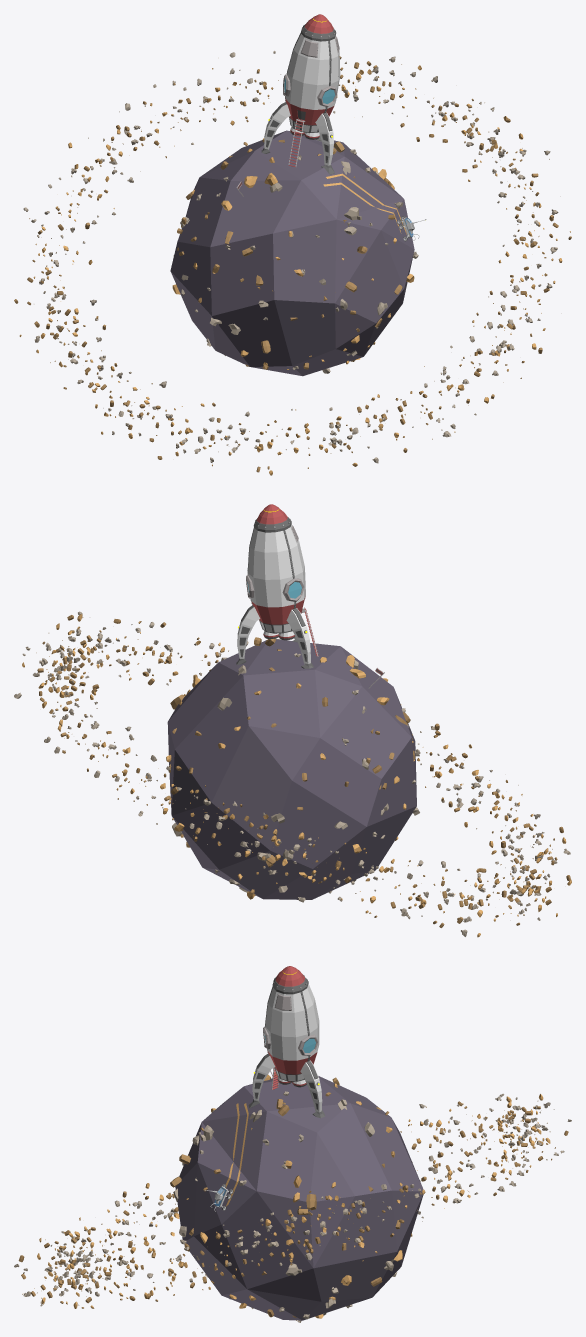
The picture shows the model from 3 angles, top to bottom: view 1: azimuth 30°, elevation 25°; view 2: azimuth 150°, elevation 25°; view 3: azimuth 270°, elevation 25°; orthographic projection. The views are drawn at different scales.
Visible parts, largest first — view 1: planet.001, planet.002; view 2: planet.001, planet.002; view 3: planet.001, planet.002.
Boxes of the visible parts, x1,y1,x2,y2 form: planet.001: (15, 14, 571, 475); planet.002: (14, 33, 570, 475); planet.001: (18, 504, 571, 937); planet.002: (14, 528, 571, 927); planet.001: (14, 966, 570, 1322); planet.002: (18, 987, 571, 1308).
Bounding box in the file's own units: 30.54 × 22.9 × 31.63.
1 material, 1 textured.
